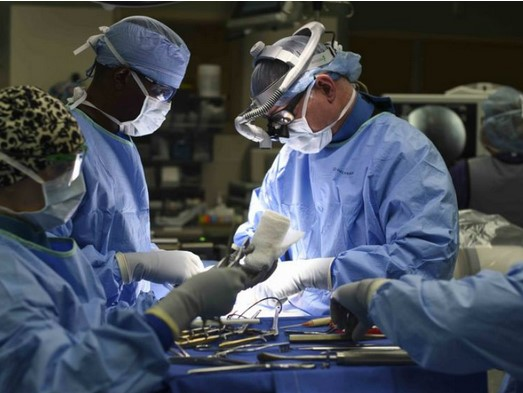face_with_mask: (234, 19, 363, 157), (3, 87, 91, 236), (91, 15, 190, 141)
